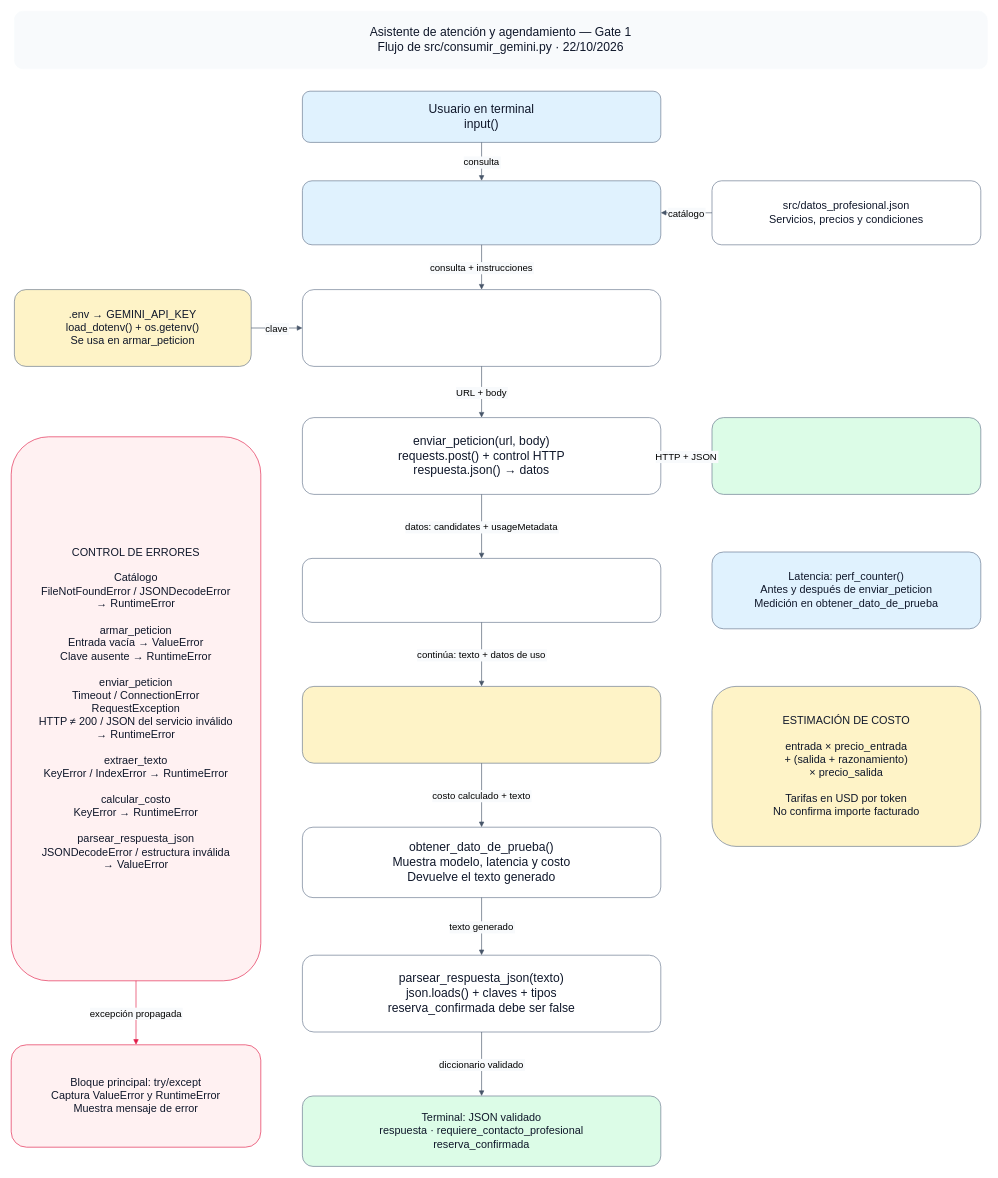
The diagram is 998 pixels wide and 1178 high, and some of its shapes have lost their labels. The box of each missing label's shape, as (x1, y1, x2, y2) in pixels:
API de Gemini gemini-3.5-flash-lite: (711, 417, 981, 494)
armar_peticion() Consulta y systemInstruction separados Solicita salida JSON: (302, 289, 661, 366)
calcular_costo(datos, precios) usageMetadata: entrada, salida y razonamiento: (302, 686, 661, 763)
cargar_datos_profesional() crear_instrucciones_sistema(profesional): (302, 180, 661, 245)
extraer_texto(datos) candidates → content → parts → text: (302, 558, 661, 622)
